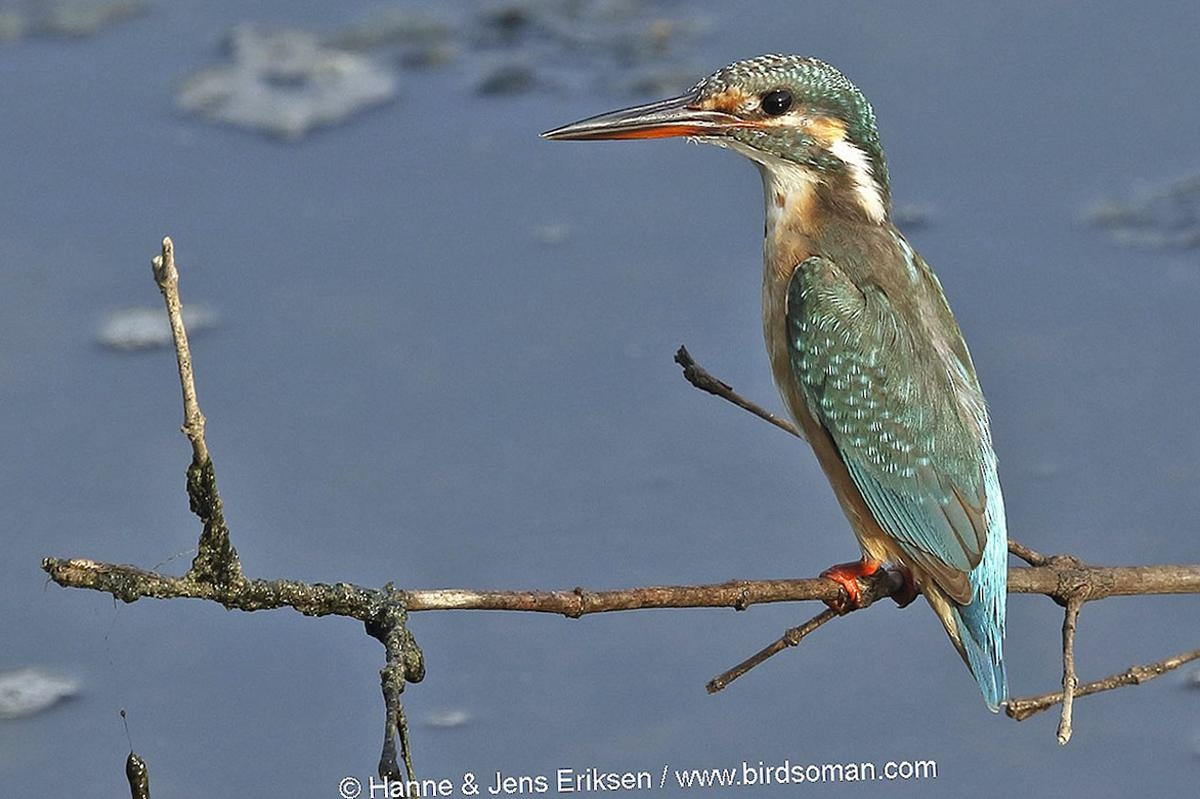kingfisher: (540, 47, 1099, 703)
